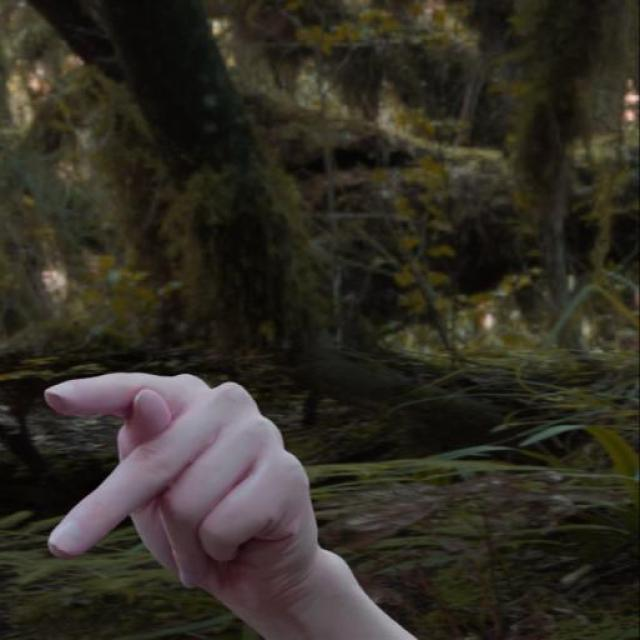P: (38, 368, 321, 618)
